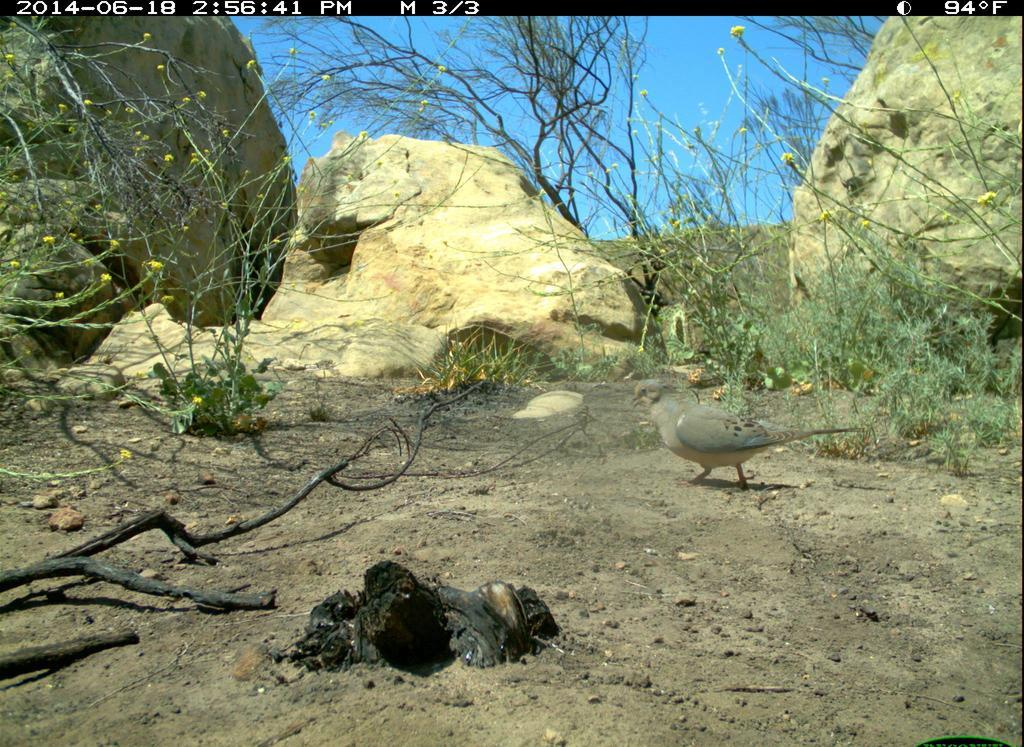bird: (630, 370, 868, 495)
